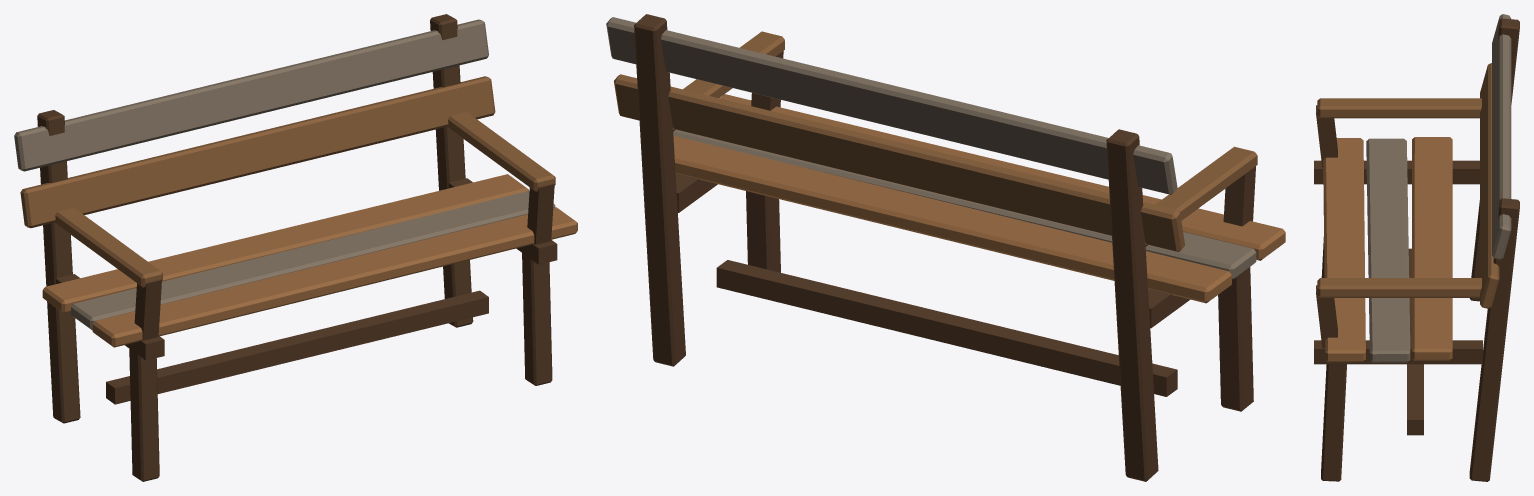
The model's file is WoodenBench.fbx.
The picture shows the model from 3 angles, left to right: view 1: azimuth 30°, elevation 25°; view 2: azimuth 150°, elevation 25°; view 3: azimuth 270°, elevation 25°; orthographic projection. The views are drawn at different scales.
Parts seen in each view (by area): view 1: WoodenBench; view 2: WoodenBench; view 3: WoodenBench.
Part boxes in pixels (left/top/right/bottom): WoodenBench: left=14, top=14, right=577, bottom=481; WoodenBench: left=606, top=14, right=1285, bottom=481; WoodenBench: left=1314, top=14, right=1519, bottom=481.
Size of the model in its own units: 1.51 by 0.9048 by 0.6093.
Materials: 1 (1 with a texture image).
